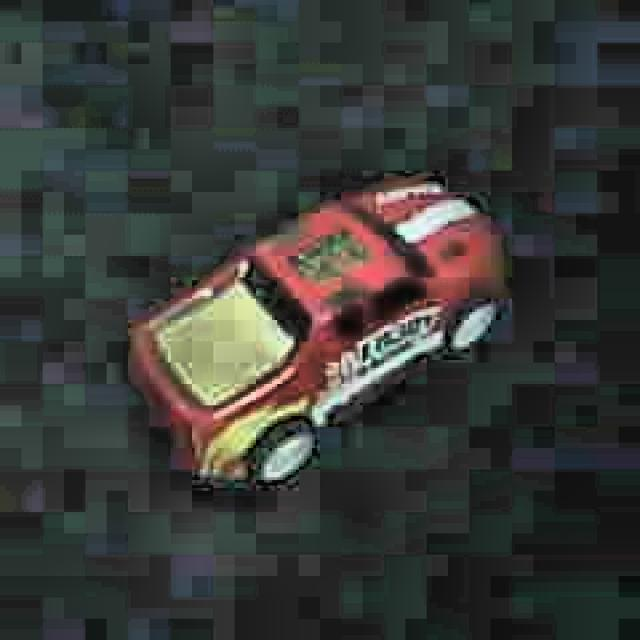car: (127, 171, 505, 491)
